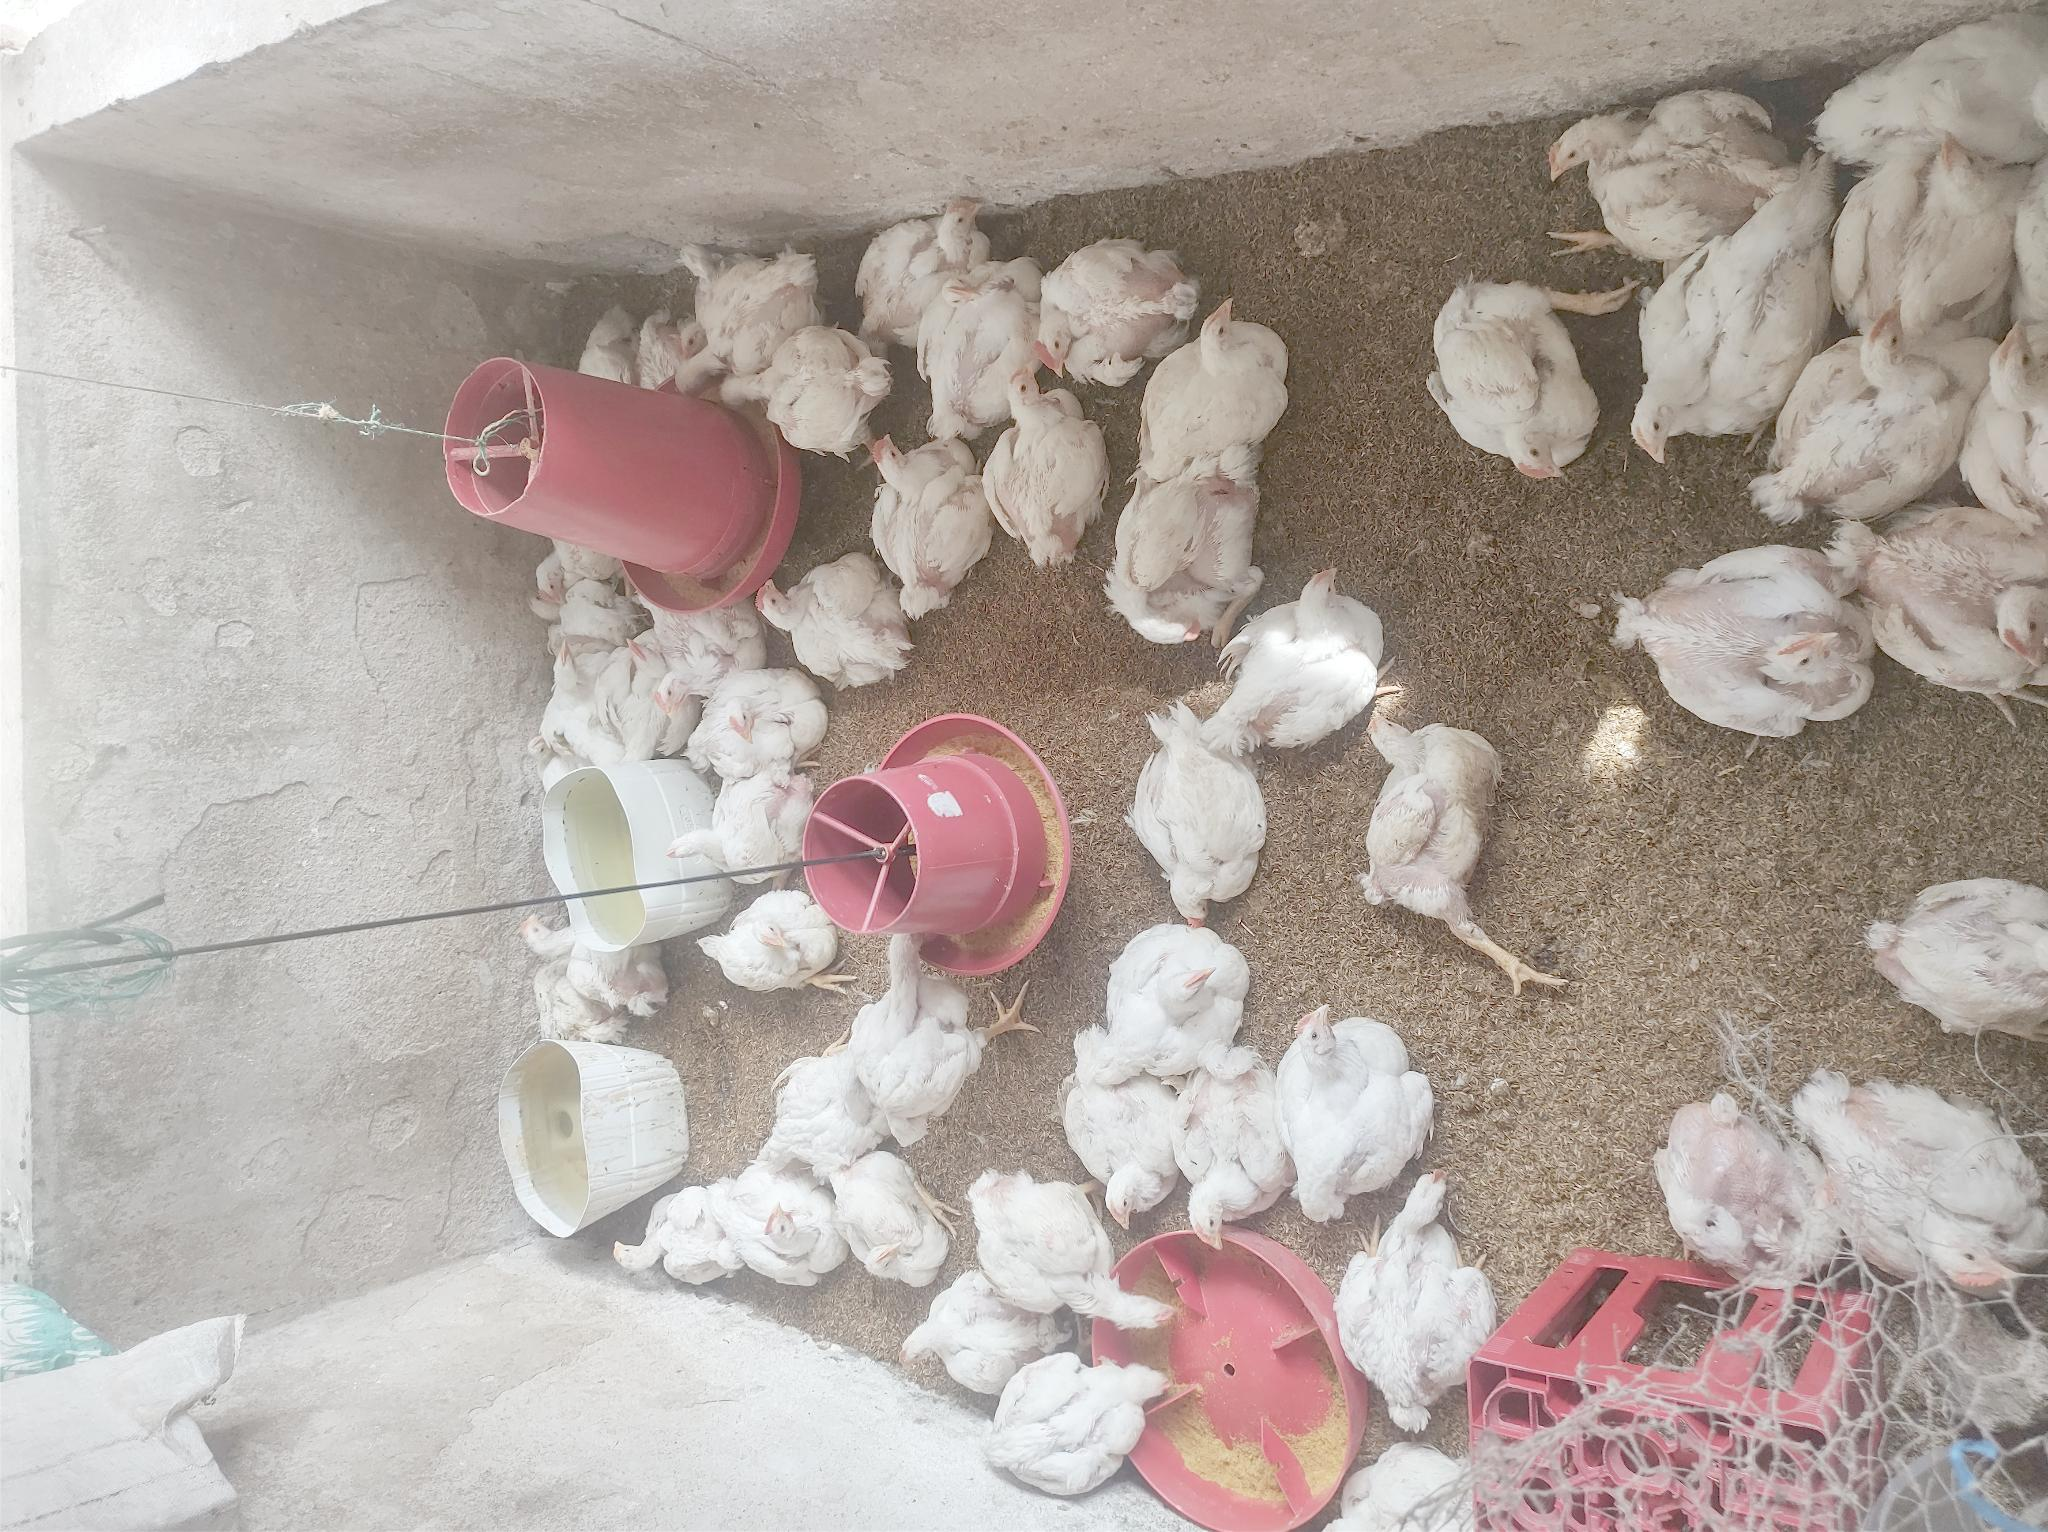Pollos: (1588, 175, 1837, 467), (1800, 1028, 2042, 1307), (1625, 531, 1914, 756), (1297, 1139, 1498, 1435), (1363, 689, 1544, 991), (1421, 254, 1635, 500), (1750, 328, 1995, 513), (1866, 451, 2048, 689), (1857, 840, 2048, 1048), (964, 1149, 1165, 1334), (1816, 167, 2032, 340), (1779, 18, 2014, 171), (1276, 995, 1430, 1220), (1652, 1078, 1800, 1307), (661, 217, 833, 407), (1105, 299, 1303, 463), (1298, 1402, 1535, 1532), (869, 900, 1001, 1130), (1219, 568, 1409, 726), (1108, 702, 1279, 877), (742, 534, 927, 695), (1578, 92, 1760, 253), (856, 393, 989, 600), (1097, 463, 1260, 624), (523, 895, 661, 1072), (880, 1250, 1034, 1408), (1096, 908, 1256, 1057), (994, 1344, 1168, 1482), (1186, 1041, 1306, 1233), (759, 1011, 896, 1176), (1059, 198, 1195, 359), (997, 340, 1100, 549), (603, 1168, 732, 1334), (726, 328, 886, 451), (692, 661, 829, 803), (708, 867, 859, 995), (1060, 1041, 1179, 1199), (1968, 282, 2048, 512), (920, 254, 1038, 410), (880, 138, 989, 291), (819, 1155, 951, 1278), (714, 1143, 840, 1263), (701, 756, 803, 883), (544, 629, 629, 753), (581, 272, 652, 396), (655, 605, 735, 703), (516, 533, 618, 592), (505, 737, 582, 790), (681, 286, 729, 356), (623, 632, 660, 679), (507, 587, 573, 608)
